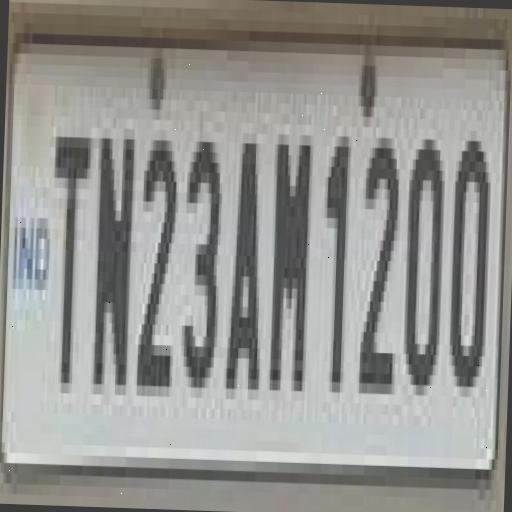number plate: (0, 11, 495, 478)
